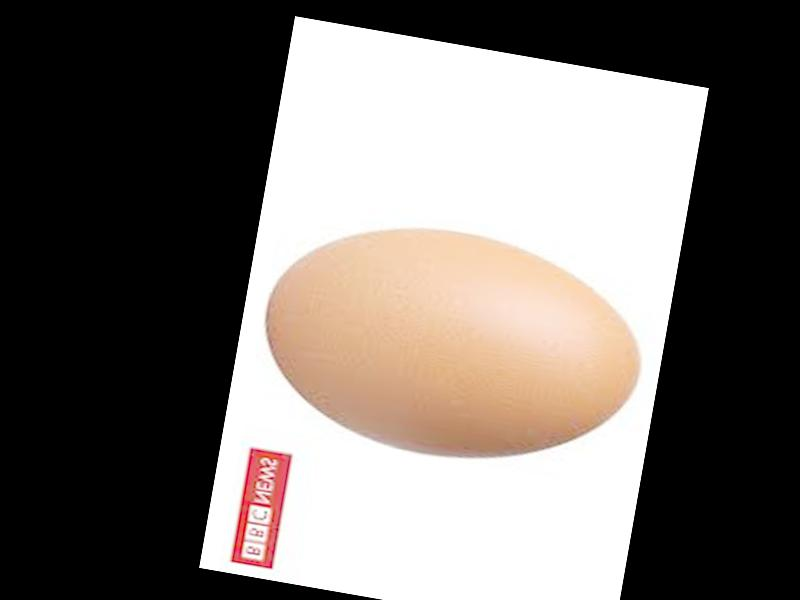Eggs: (249, 202, 654, 486)
